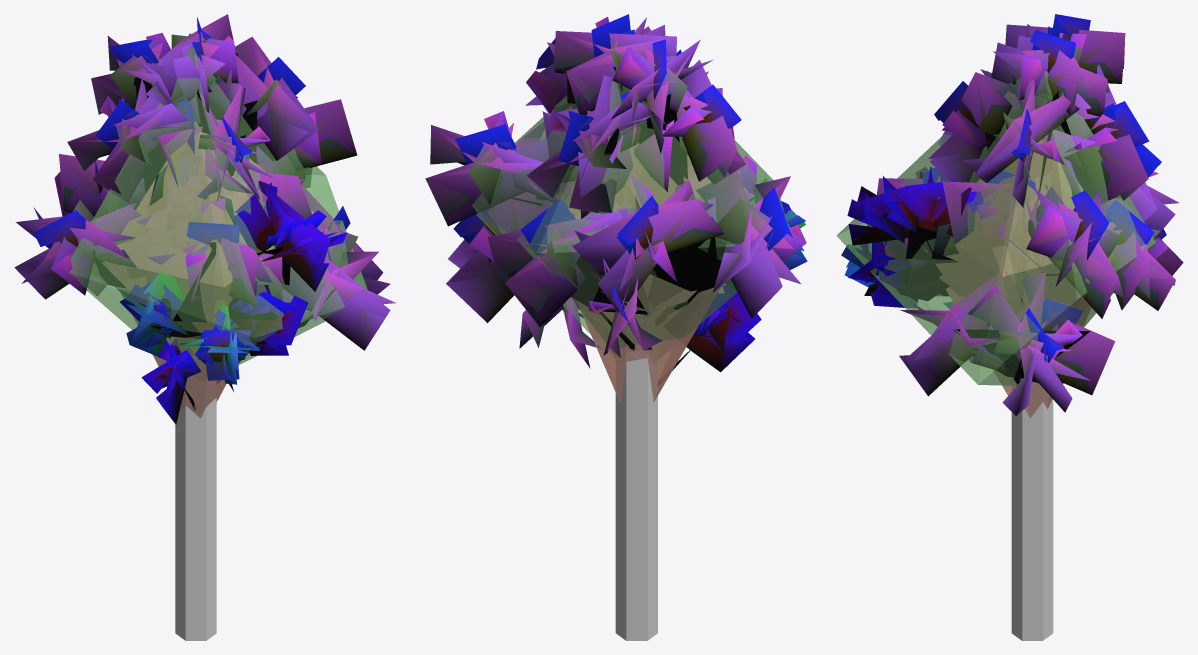
Rendered from holm_oak_city_tall.dae.
3 views of the same model, side by side, from view 1: azimuth 30°, elevation 25°; view 2: azimuth 150°, elevation 25°; view 3: azimuth 270°, elevation 25° (orthographic). The views are drawn at different scales.
Visible parts, largest first — view 1: Colmesh-1, holm_oak_city_tall_a500, holm_oak_city_tall_a150; view 2: holm_oak_city_tall_a500, holm_oak_city_tall_a150, Colmesh-1; view 3: holm_oak_city_tall_a500, Colmesh-1, holm_oak_city_tall_a150.
Part boxes in pixels (x1,y1,x2,y2): Colmesh-1: (68, 46, 367, 640); holm_oak_city_tall_a500: (15, 15, 396, 410); holm_oak_city_tall_a150: (14, 14, 390, 424); holm_oak_city_tall_a500: (425, 17, 807, 384); holm_oak_city_tall_a150: (425, 14, 806, 370); Colmesh-1: (472, 44, 788, 640); holm_oak_city_tall_a500: (841, 14, 1181, 415); Colmesh-1: (836, 71, 1155, 640); holm_oak_city_tall_a150: (845, 14, 1183, 415).
Bounding box in the file's own units: 5.95 × 5.02 × 9.68.
